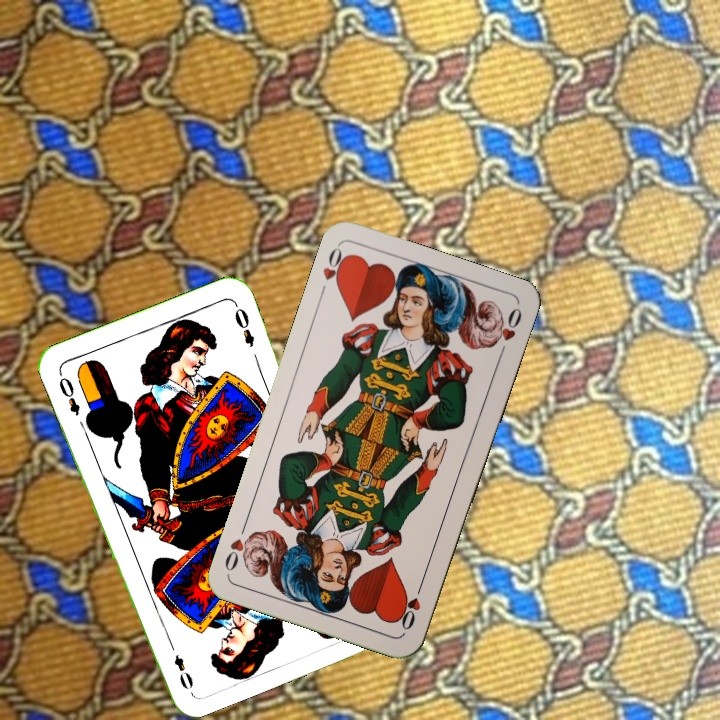EO: (54, 368, 83, 418)
HO: (395, 577, 426, 633), (319, 243, 352, 291)
